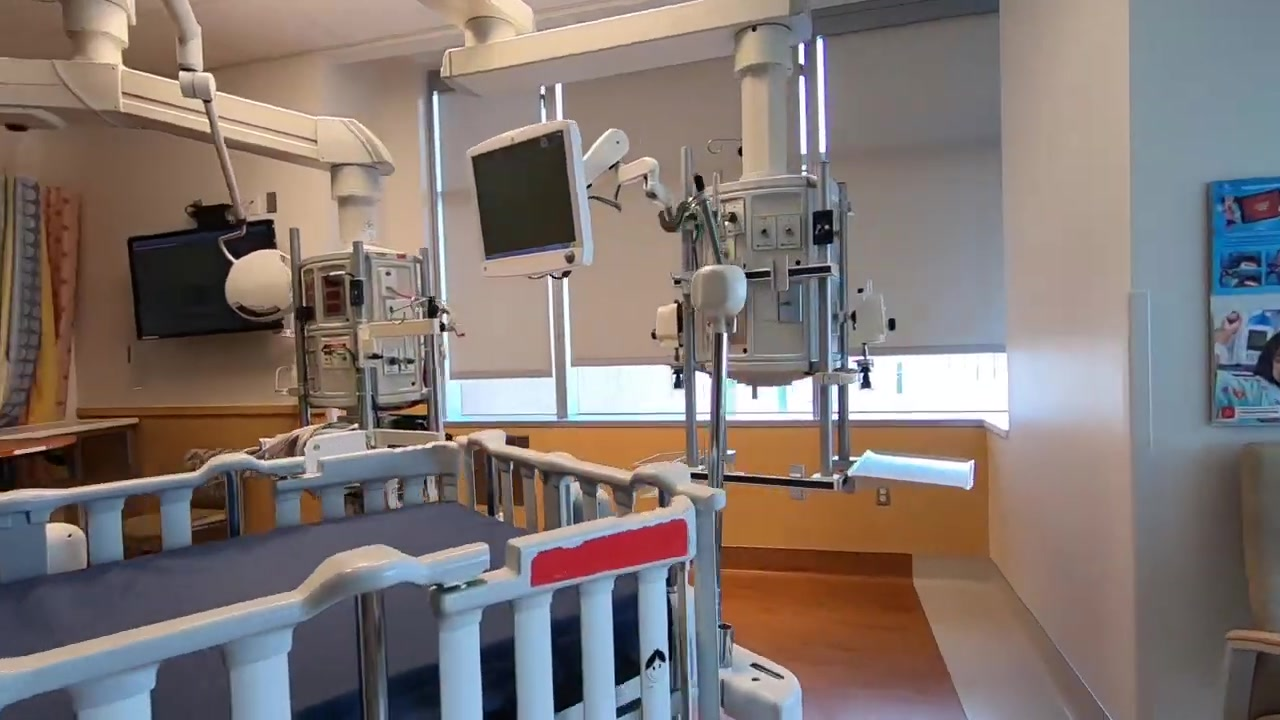TV: (124, 218, 289, 340)
bedrail: (1, 510, 726, 720), (6, 441, 454, 565)
bedside_monitor: (467, 118, 596, 279)
chair: (1220, 439, 1280, 720)
curtain: (442, 16, 1004, 383), (1, 174, 82, 425)
hospital_bed: (1, 429, 806, 720)
iv_pole: (684, 182, 728, 487)
